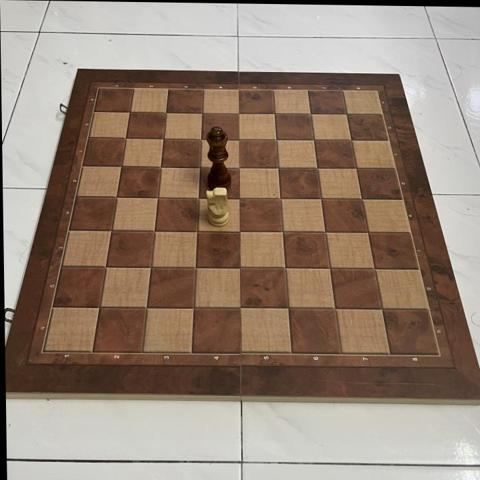xcorner: (301, 105, 318, 122), (265, 104, 282, 121), (193, 103, 210, 120), (121, 102, 138, 119), (304, 131, 321, 148), (267, 130, 284, 147), (192, 129, 209, 146), (271, 189, 288, 206), (316, 223, 333, 240), (188, 221, 205, 238), (97, 256, 114, 273), (337, 106, 354, 122), (229, 104, 246, 120), (157, 103, 174, 119), (117, 128, 134, 144), (308, 159, 324, 176), (191, 157, 207, 174), (230, 189, 247, 205), (149, 187, 165, 204), (108, 187, 125, 203), (359, 224, 375, 241), (273, 223, 290, 239), (145, 221, 162, 237), (365, 261, 382, 277), (321, 260, 337, 277), (276, 259, 292, 276), (231, 259, 248, 275), (142, 257, 158, 274), (373, 301, 389, 318), (232, 299, 248, 316), (185, 298, 201, 315), (342, 132, 358, 148), (230, 130, 246, 146), (155, 129, 171, 145), (347, 160, 363, 176), (269, 159, 285, 175), (230, 158, 246, 174), (152, 157, 168, 173), (113, 156, 129, 172), (353, 191, 369, 207), (312, 190, 328, 206), (190, 188, 206, 204), (231, 222, 247, 238), (103, 220, 119, 236), (187, 258, 203, 274), (326, 301, 342, 317), (279, 300, 295, 316), (138, 298, 154, 314), (91, 297, 107, 313)
